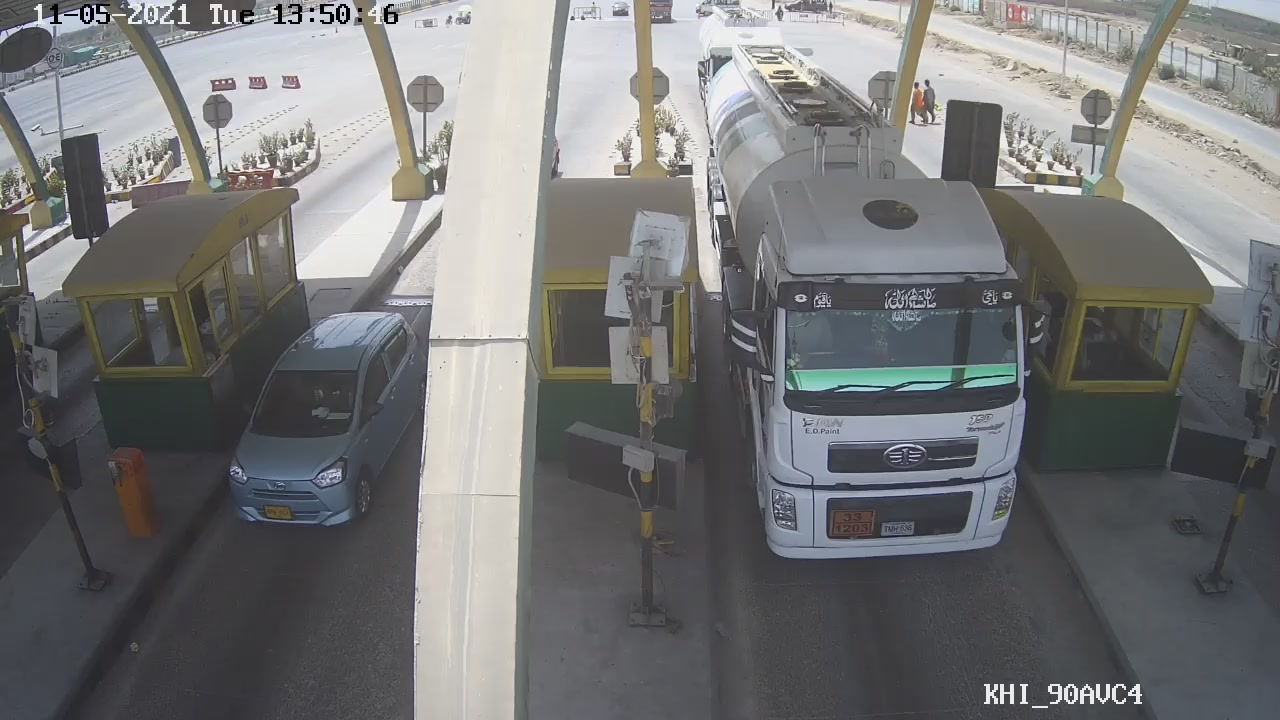F6: (702, 98, 1031, 565)
